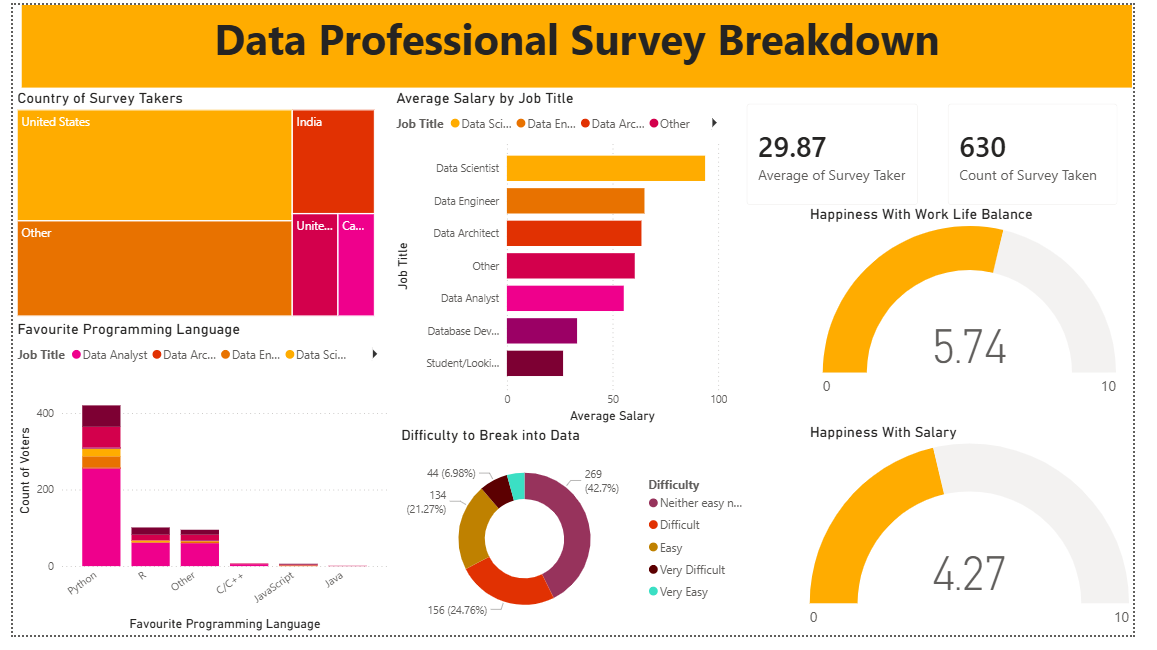

The dashboard page shown, as its layout file describes it:
{"tool":"powerbi","page":{"name":"Page 1","canvas":[1280,720],"ordinal":0},"visuals":[{"type":"textbox","box":[10.7,0,1269,94.3],"z":0},{"type":"cardVisual","fields":{"Data":["CountNonNull(Data Professional Survey.Unique ID)"]},"box":[1051.7,95,228.3,150],"z":1},{"type":"cardVisual","fields":{"Data":["Avg(Data Professional Survey.Q10 - Current Age)"]},"box":[821.7,95,230,150],"z":2},{"type":"barChart","title":"Average Salary by Job Title","fields":{"Category":["Data Professional Survey.Q1 - Which Title Best Fits your Current Role?.1"],"Y":["Avg(Data Professional Survey.Average Salary)"],"Series":["Data Professional Survey.Q1 - Which Title Best Fits your Current Role?.1"]},"box":[433.3,95,388.3,386.7],"z":3},{"type":"columnChart","title":"Favourite Programming Language","fields":{"Category":["Data Professional Survey.Q5 - Favorite Programming Language.1"],"Y":["CountNonNull(Data Professional Survey.Unique ID)"],"Series":["Data Professional Survey.Q1 - Which Title Best Fits your Current Role?.1"]},"box":[0,360,433.3,360],"z":4},{"type":"treemap","title":"Country of Survey Takers","fields":{"Group":["Data Professional Survey.Q11 - Which Country do you live in?.1"],"Values":["CountNonNull(Data Professional Survey.Q11 - Which Country do you live in?.1)"]},"box":[0,95,418.3,265],"z":5},{"type":"gauge","title":"Happiness With Work Life Balance","fields":{"Y":["Avg(Data Professional Survey.Q6 - How Happy are you in your Current Position with the following? (Work/Life Balance))"],"MinValue":["Min(Data Professional Survey.Q6 - How Happy are you in your Current Position with the following? (Work/Life Balance))1"],"MaxValue":["Max(Data Professional Survey.Q6 - How Happy are you in your Current Position with the following? (Work/Life Balance))2"]},"box":[905,228.3,375,228.3],"z":6},{"type":"gauge","title":"Happiness With Salary","fields":{"Y":["Avg(Data Professional Survey.Q6 - How Happy are you in your Current Position with the following? (Salary))"],"MinValue":["Min(Data Professional Survey.Q6 - How Happy are you in your Current Position with the following? (Salary))"],"MaxValue":["Max(Data Professional Survey.Q6 - How Happy are you in your Current Position with the following? (Salary))"]},"box":[905,476.7,375,243.3],"z":7},{"type":"donutChart","title":"Difficulty to Break into Data","fields":{"Category":["Data Professional Survey.Q7 - How difficult was it for you to break into Data?"],"Y":["CountNonNull(Data Professional Survey.Q7 - How difficult was it for you to break into Data?)"]},"box":[438.3,481.7,413.3,238.3],"z":8}]}

Visuals, with their boxes in screenshot pixels (x1, y1, x2, y2), scaled from the page's 1280x720 canvas onto the 1157x650 screenshot:
textbox: (10,0,1156,85)
cardVisual - CountNonNull(Data Professional Survey.Unique ID): (951,86,1156,221)
cardVisual - Avg(Data Professional Survey.Q10 - Current Age): (743,86,951,221)
"Average Salary by Job Title" barChart: (392,86,743,435)
"Favourite Programming Language" columnChart: (0,325,392,649)
"Country of Survey Takers" treemap: (0,86,378,325)
"Happiness With Work Life Balance" gauge: (818,206,1156,412)
"Happiness With Salary" gauge: (818,430,1156,649)
"Difficulty to Break into Data" donutChart: (396,435,770,649)
